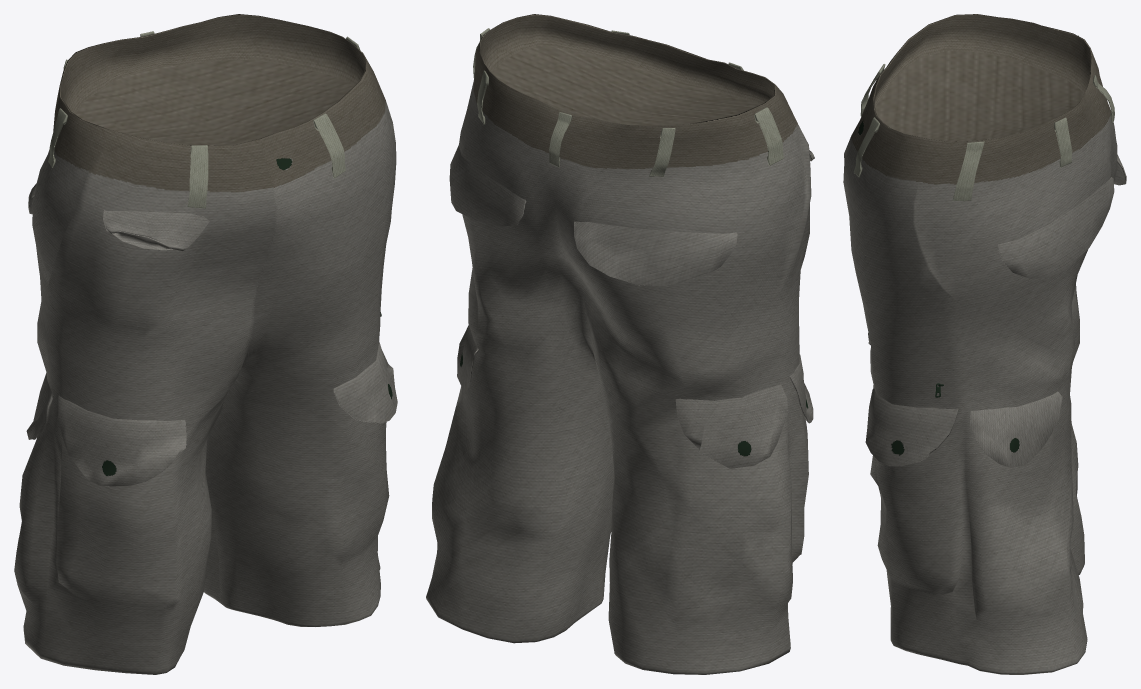
3 views of the same model, side by side, from view 1: azimuth 30°, elevation 25°; view 2: azimuth 150°, elevation 25°; view 3: azimuth 270°, elevation 25° (orthographic). The views are drawn at different scales.
Parts seen in each view (by area): view 1: Bottoms; view 2: Bottoms; view 3: Bottoms.
Boxes of the visible parts, <box> form: Bottoms: <box>14,14,397,674</box>; Bottoms: <box>426,14,814,674</box>; Bottoms: <box>843,14,1126,674</box>.
Bounding box in the file's own units: 0.3912 × 0.5898 × 0.2835.
1 material, 1 textured.
